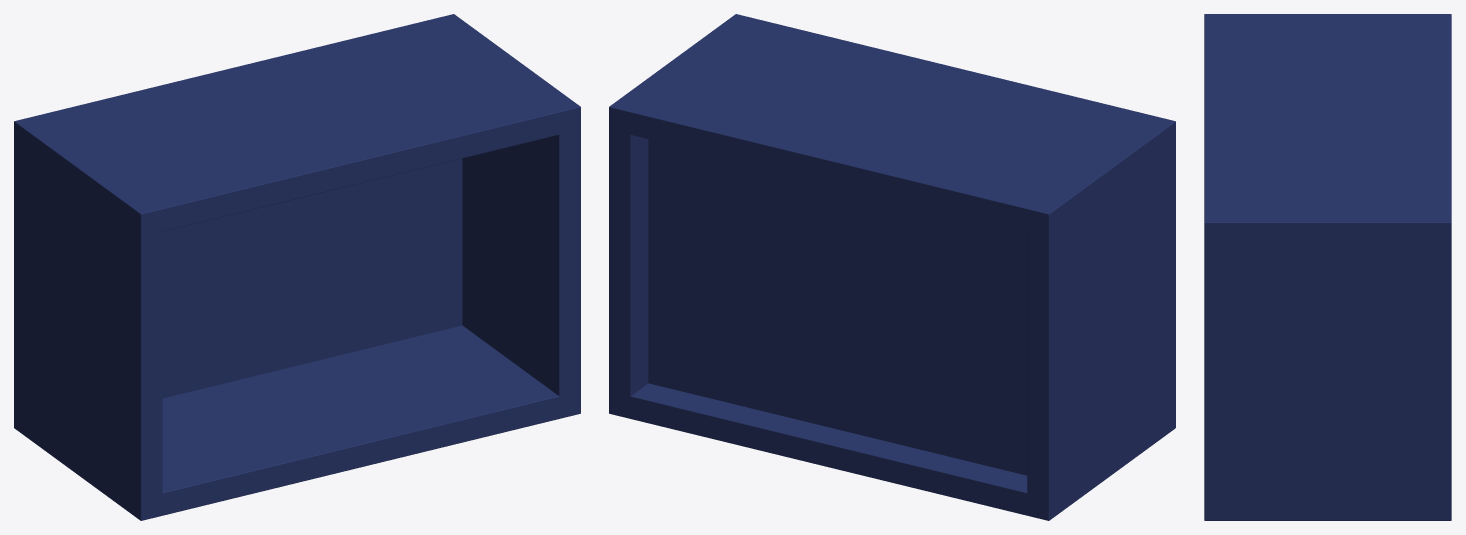
Rendered from MODH_1X07_A_B_AF.glb.
The picture shows the model from 3 angles, left to right: view 1: azimuth 30°, elevation 25°; view 2: azimuth 150°, elevation 25°; view 3: azimuth 270°, elevation 25°; orthographic projection. The views are drawn at different scales.
Size of the model in its own units: 360 by 240 by 180.
